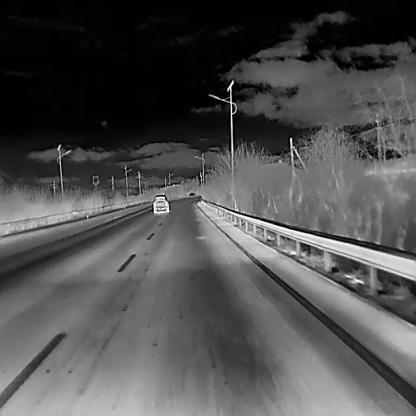car: (151, 194, 168, 213)
